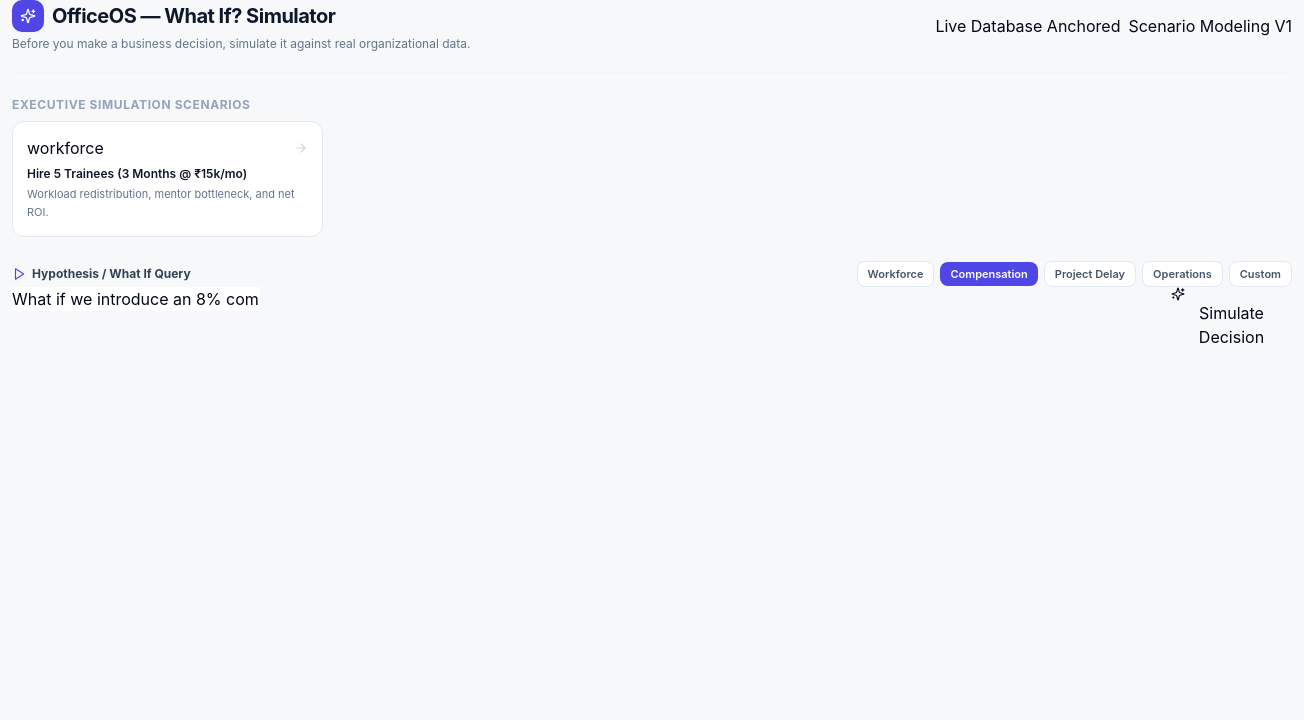
Test: SimulationsPage Component › executes simulation on button click and displays results
Step 1. Click the button "Simulate Decision" → {"x": 1231, "y": 318}, box left=1171, top=287, right=1292, bottom=349
(page scrolled)
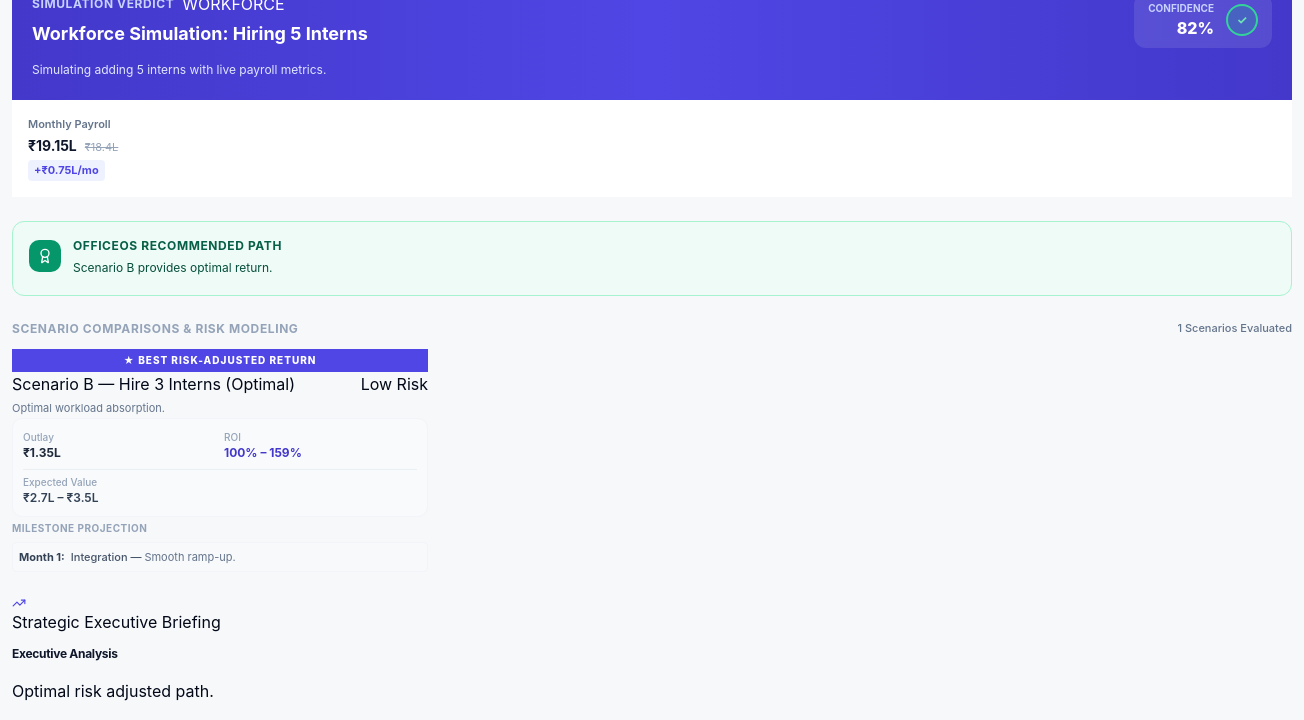
Expected: the heading "Workforce Simulation: Hiring 5 Interns" is shown, left=32, top=20, right=368, bottom=48
Expected: the text "82%" is shown, left=1177, top=18, right=1214, bottom=38
Expected: the heading "Scenario B — Hire 3 Interns (Optimal)" is shown, left=12, top=372, right=295, bottom=396
